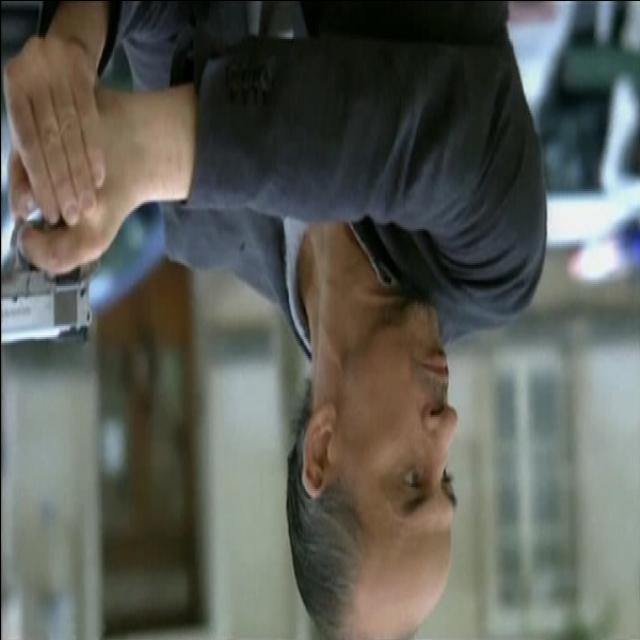weapons: (0, 127, 116, 369)
